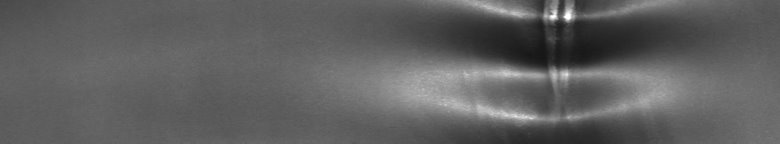ke: (424, 4, 692, 136)
